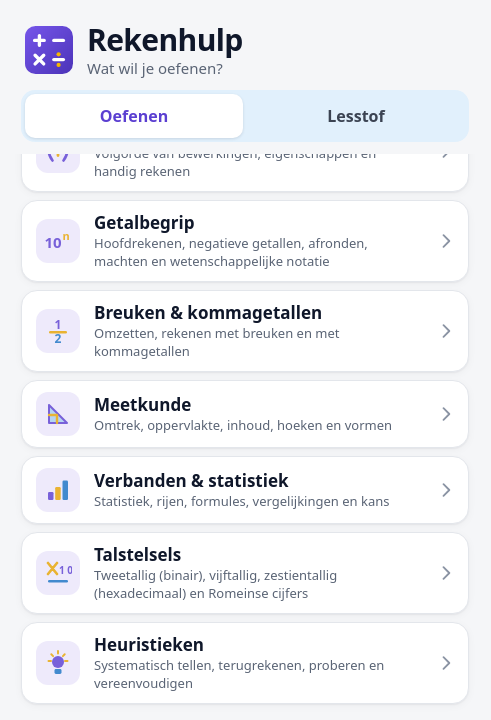
Scenario: App › offers Talstelsels with its topics and starts a session
(page scrolled)
Click the button that starts with "Talstelsels": (245, 573) [21,532,469,614]
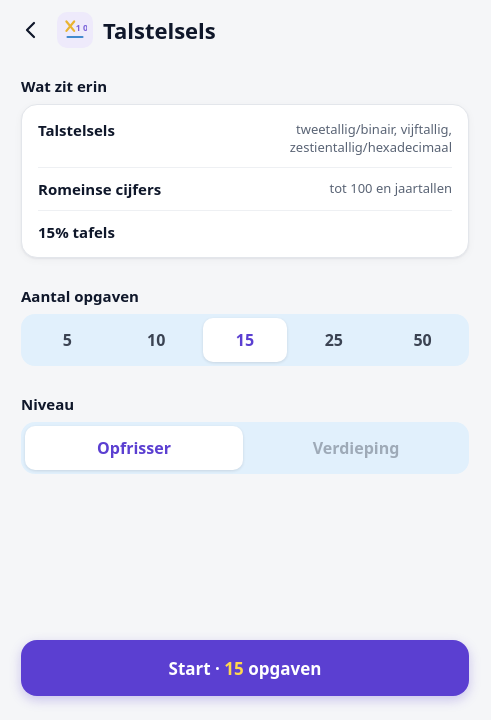
Check: the text "Romeinse cijfers" is shown, box [38,179,161,199]
Check: the heading "Talstelsels" is shown, box [103,16,216,44]
Click the button "Start · 15 opgaven": (245, 668) [21,640,469,696]
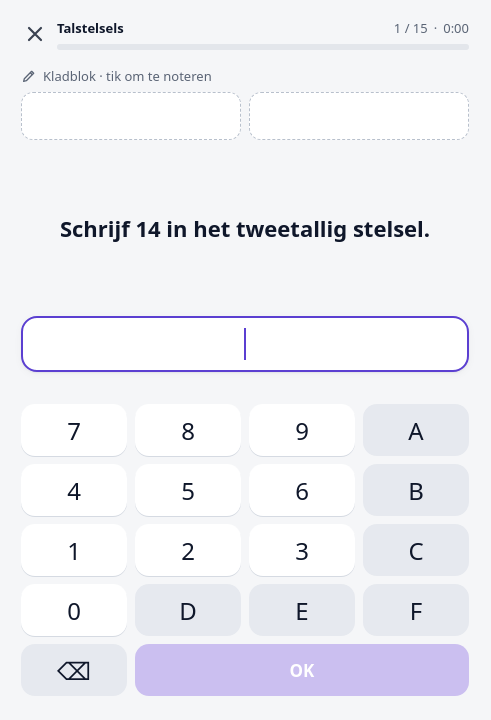
Check: the text "1 / 15" is shown, box [394,18,428,38]
